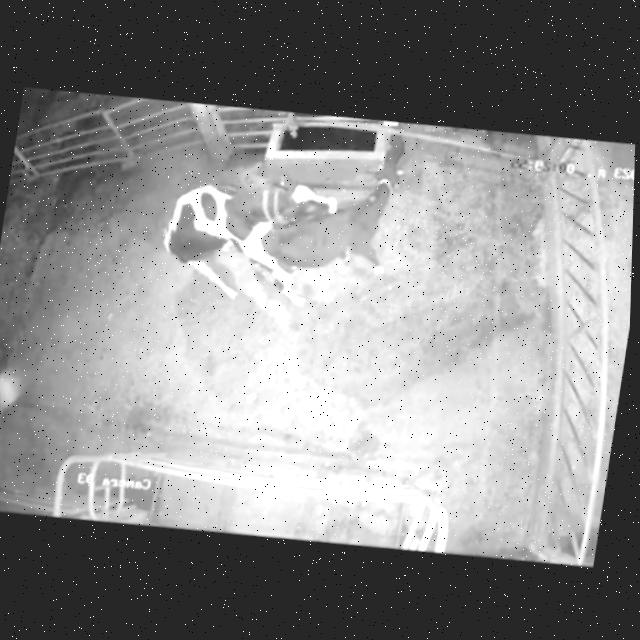ride: (139, 157, 344, 328)
stand: (259, 143, 417, 320)
